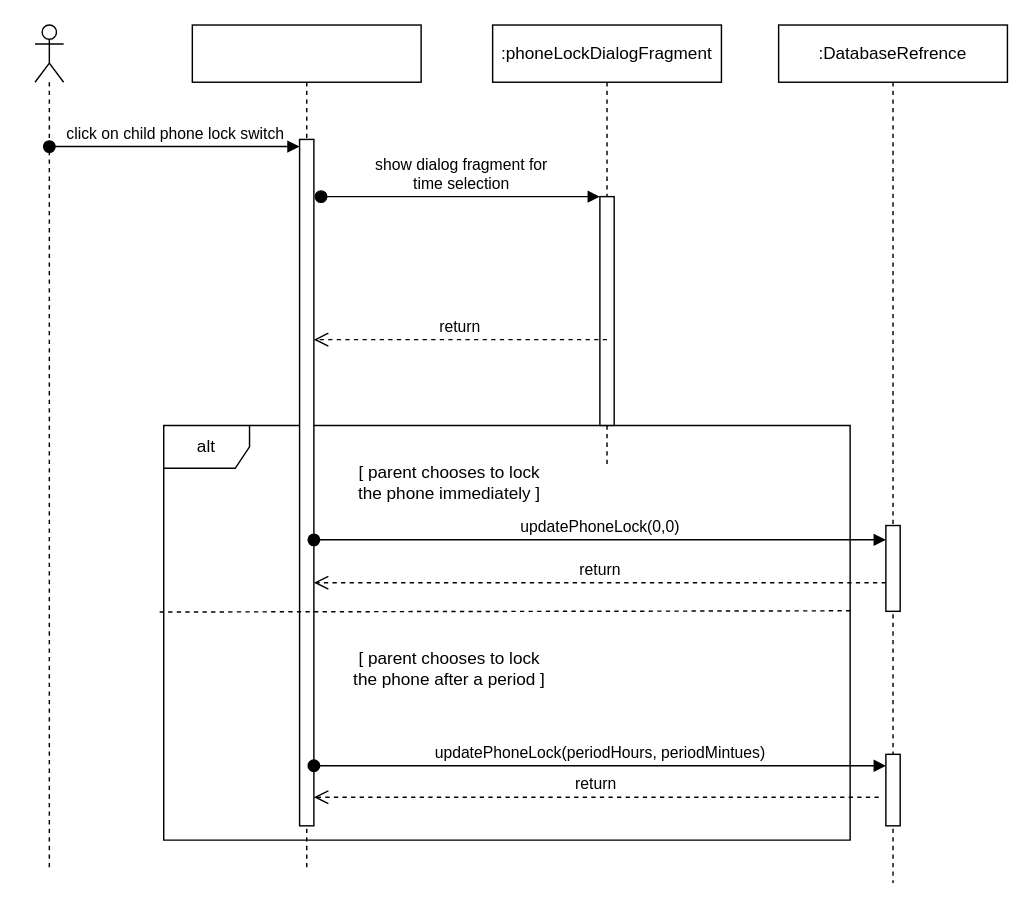
The diagram is 1032 pixels wide and 908 high, and some of its shapes have lost their labels. The shapes that lost their labels are listed below. From the top down, each one's box as (x1, y1, x2, y2) in pixels, then its label:
(34, 24, 64, 869): Parent
(191, 24, 421, 869): :ParentSignedInActivity
